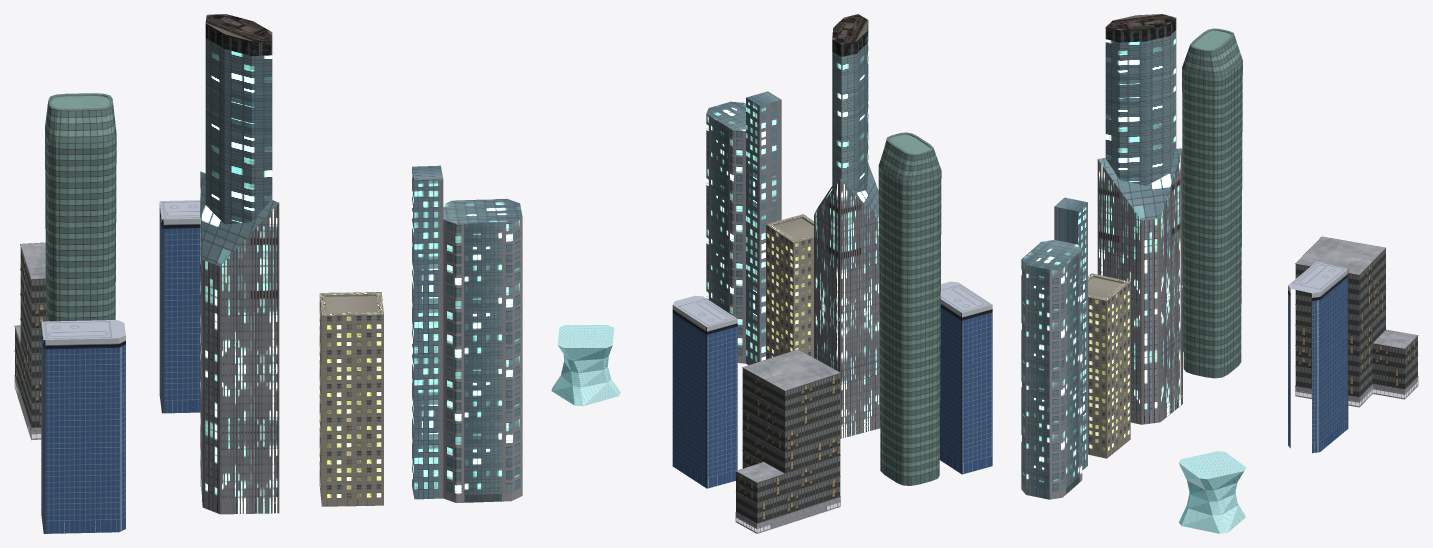
File: land003.gltf
The picture shows the model from 3 angles, left to right: view 1: azimuth 30°, elevation 25°; view 2: azimuth 150°, elevation 25°; view 3: azimuth 270°, elevation 25°; orthographic projection. The views are drawn at different scales.
Parts seen in each view (by area): view 1: node_City_Lowpoly540_2 (1)_-196848, node_City_Lowpoly539 (1)_-196452, node_City_Lowpoly428 (1)_-197220, node_City_Lowpoly517 (1)_-197040, node_City_Lowpoly498 (1)_-196656, node_City_Lowpoly428_1 (1)_-197682, node_BG_Building_B (1)_-198014; view 2: node_City_Lowpoly517 (1)_-197040, node_City_Lowpoly540_2 (1)_-196848, node_BG_Building_B (1)_-198014, node_City_Lowpoly539 (1)_-196452, node_City_Lowpoly428_1 (1)_-197682, node_City_Lowpoly428 (1)_-197220, node_City_Lowpoly498 (1)_-196656, node_City_Lowpoly429 (1)_-205326; view 3: node_City_Lowpoly540_2 (1)_-196848, node_City_Lowpoly517 (1)_-197040, node_City_Lowpoly539 (1)_-196452, node_BG_Building_B (1)_-198014, node_City_Lowpoly498 (1)_-196656, node_City_Lowpoly428_1 (1)_-197682, node_City_Lowpoly429 (1)_-205326.
Boxes of the visible parts, x1,y1,x2,y2 form: node_City_Lowpoly540_2 (1)_-196848: (200, 14, 279, 514); node_City_Lowpoly539 (1)_-196452: (412, 165, 522, 502); node_City_Lowpoly428 (1)_-197220: (41, 320, 125, 533); node_City_Lowpoly517 (1)_-197040: (45, 93, 116, 321); node_City_Lowpoly498 (1)_-196656: (319, 292, 383, 506); node_City_Lowpoly428_1 (1)_-197682: (159, 200, 200, 413); node_BG_Building_B (1)_-198014: (14, 242, 45, 440); node_City_Lowpoly517 (1)_-197040: (878, 132, 941, 485); node_City_Lowpoly540_2 (1)_-196848: (814, 14, 880, 438); node_BG_Building_B (1)_-198014: (735, 349, 840, 533); node_City_Lowpoly539 (1)_-196452: (706, 91, 781, 364); node_City_Lowpoly428_1 (1)_-197682: (672, 295, 737, 488); node_City_Lowpoly428 (1)_-197220: (939, 281, 992, 474); node_City_Lowpoly498 (1)_-196656: (766, 214, 813, 359); node_City_Lowpoly429 (1)_-205326: (551, 325, 620, 406); node_City_Lowpoly540_2 (1)_-196848: (1097, 14, 1182, 424); node_City_Lowpoly517 (1)_-197040: (1182, 28, 1242, 378); node_City_Lowpoly539 (1)_-196452: (1021, 197, 1087, 499); node_BG_Building_B (1)_-198014: (1295, 236, 1418, 407); node_City_Lowpoly498 (1)_-196656: (1088, 273, 1130, 458); node_City_Lowpoly428_1 (1)_-197682: (1288, 262, 1348, 453); node_City_Lowpoly429 (1)_-205326: (1178, 451, 1246, 533).
Bounding box in the file's own units: 270 × 247 × 228.
